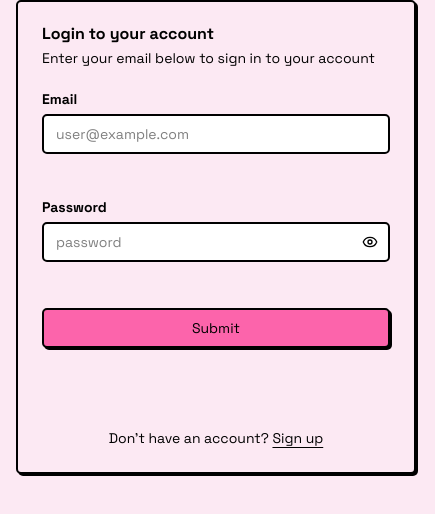
Test: SignInForm › email should contain a domain name
Step 1. Type "popiqueTheCat@" into the field with test id "email-input" → (216, 134), box left=42, top=114, right=390, bottom=154
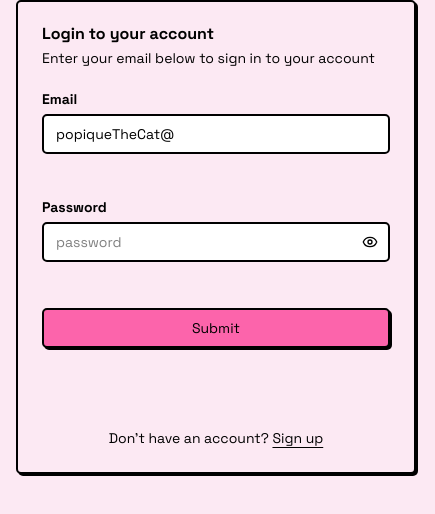
Step 2. Click the button "Submit" → (216, 328), box left=42, top=308, right=390, bottom=348
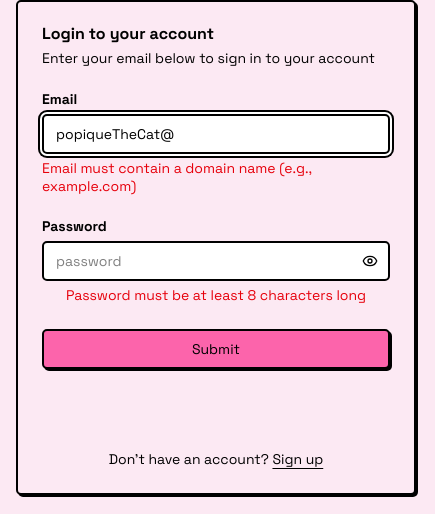
expect the text "Email must contain a domain name (e.g., example.com)" is shown: met, box left=42, top=159, right=312, bottom=194
